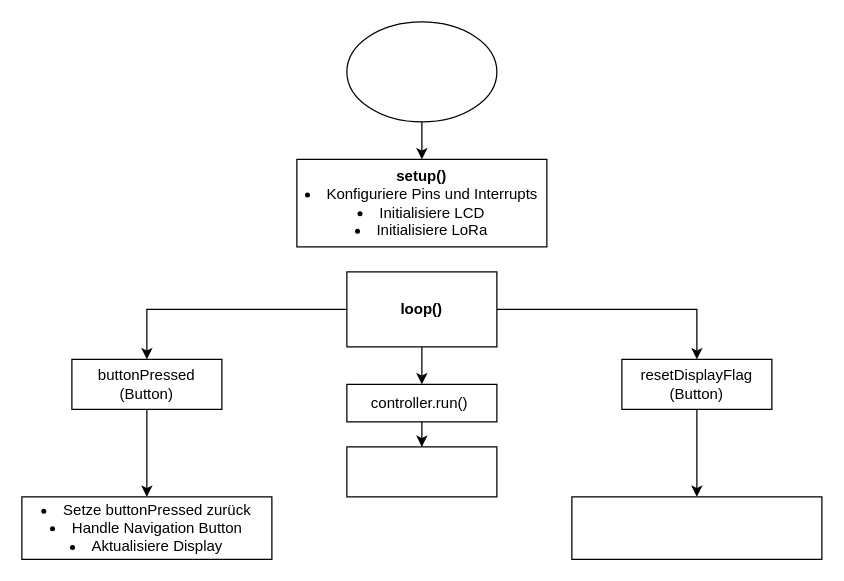
This 844x581 diagram has some shape labels left out. Here are the shapes that lost their labels. From the top down, the centre of each, then its label:
At point (421, 71): "Start".
At point (421, 471): "periodische Aufgaben ausführen".
At point (696, 527): "Initialisiere LCD neu Setze resetDisplayFlag zurück Aktualisiere Display".
